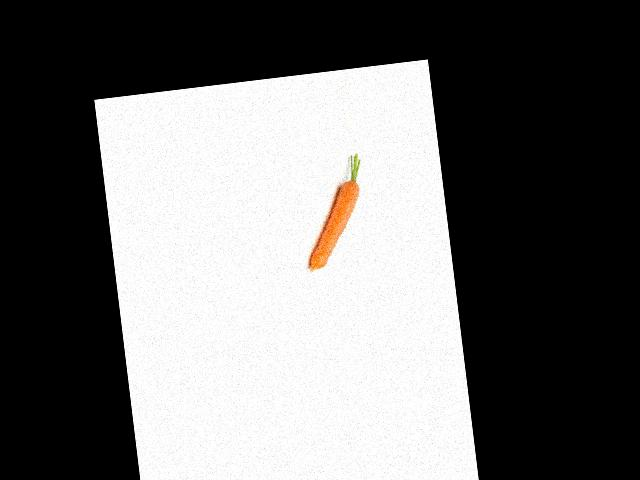carrot: (299, 177, 369, 272)
